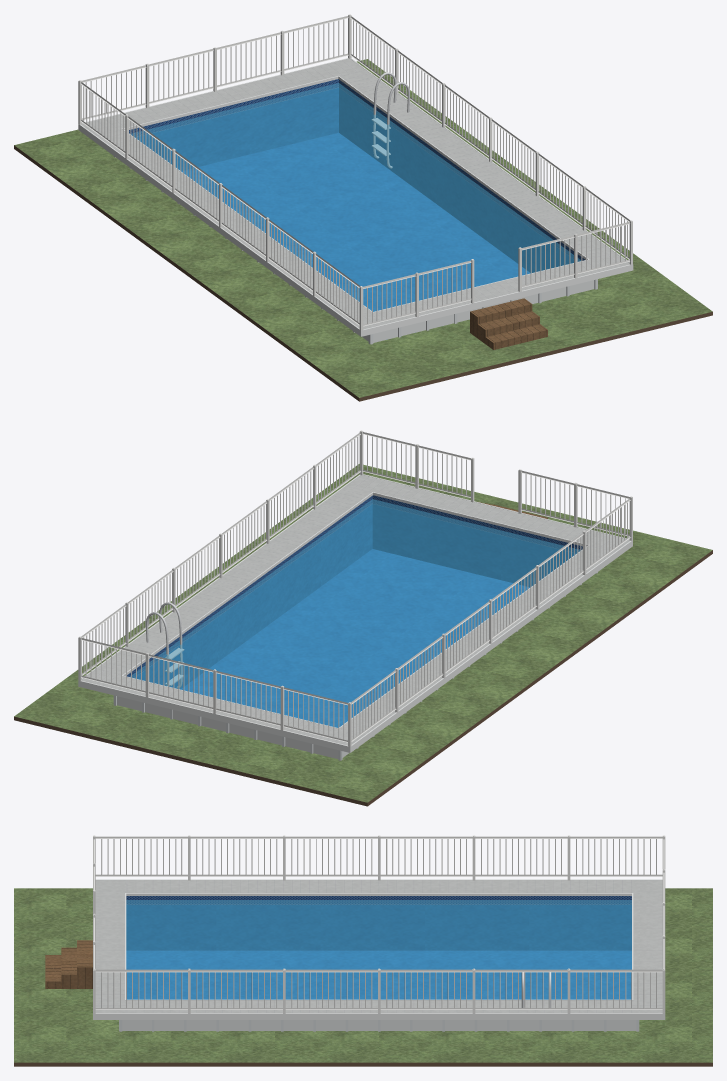
File: kayak-pool-16x32-white-walk-rec-fence.0f973f13da.glb
3 views of the same model, one above another, from view 1: azimuth 30°, elevation 25°; view 2: azimuth 150°, elevation 25°; view 3: azimuth 270°, elevation 25° (orthographic).
Visible parts, largest first — view 1: water, ground, liner_floor, fence, liner_wall, deck, fascia, soil, steps, wall, steel; view 2: water, ground, liner_floor, fence, liner_wall, deck, fascia, soil, wall, steel; view 3: water, ground, liner_wall, liner_floor, deck, fence, fascia, wall, soil, steps, upright.
Boxes of the visible parts, left/top/right/bottom form: water: left=131, top=83, right=580, bottom=311; ground: left=14, top=59, right=712, bottom=397; liner_floor: left=181, top=133, right=530, bottom=311; fence: left=78, top=14, right=632, bottom=330; liner_wall: left=129, top=79, right=584, bottom=272; deck: left=81, top=58, right=629, bottom=329; fascia: left=78, top=58, right=633, bottom=336; soil: left=14, top=145, right=712, bottom=401; steps: left=470, top=298, right=547, bottom=349; wall: left=362, top=280, right=594, bottom=342; steel: left=371, top=72, right=410, bottom=168; water: left=130, top=499, right=579, bottom=727; ground: left=14, top=464, right=712, bottom=802; liner_floor: left=181, top=549, right=529, bottom=727; fence: left=78, top=430, right=632, bottom=746; liner_wall: left=127, top=495, right=582, bottom=689; deck: left=82, top=475, right=629, bottom=745; fascia: left=78, top=474, right=632, bottom=752; soil: left=14, top=550, right=712, bottom=806; wall: left=117, top=696, right=348, bottom=758; steel: left=146, top=602, right=184, bottom=688; water: left=126, top=900, right=631, bottom=999; ground: left=14, top=888, right=712, bottom=1062; liner_wall: left=126, top=896, right=631, bottom=950; liner_floor: left=126, top=950, right=631, bottom=999; deck: left=95, top=880, right=662, bottom=1012; fence: left=93, top=835, right=665, bottom=1013; fascia: left=93, top=879, right=665, bottom=1019; wall: left=122, top=1020, right=636, bottom=1030; soil: left=14, top=1062, right=712, bottom=1066; steps: left=45, top=940, right=92, bottom=988; upright: left=119, top=1020, right=639, bottom=1031.
Bounding box in the file's own units: 7.92 × 2.15 × 13.4.
Materials: 13 (5 with a texture image).
